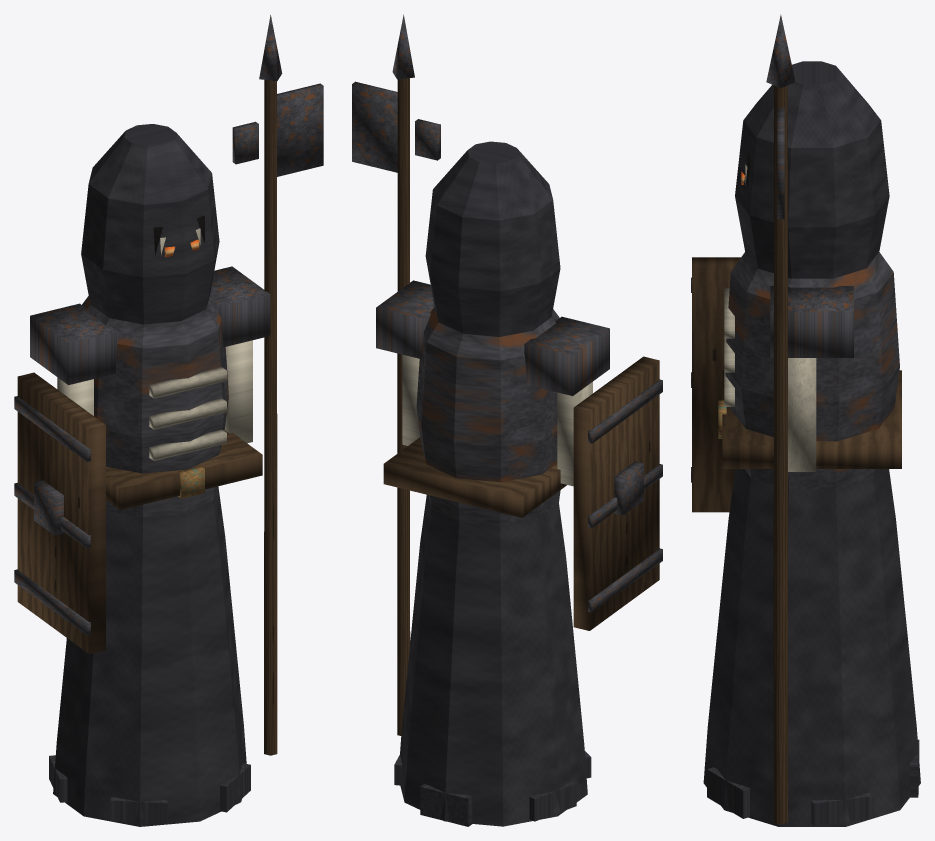
File: fortress_bone_sentry.obj
3 views of the same model, side by side, from view 1: azimuth 30°, elevation 25°; view 2: azimuth 150°, elevation 25°; view 3: azimuth 270°, elevation 25° (orthographic). The views are drawn at different scales.
Visible parts, largest first — view 1: fortress_bone_sentry; view 2: fortress_bone_sentry; view 3: fortress_bone_sentry.
Part boxes in pixels (x1=…): fortress_bone_sentry: x1=14, y1=15, x2=323, y2=826; fortress_bone_sentry: x1=352, y1=14, x2=662, y2=826; fortress_bone_sentry: x1=691, y1=14, x2=920, y2=826.
Bounding box in the file's own units: 1.07 × 2.73 × 0.6875.
